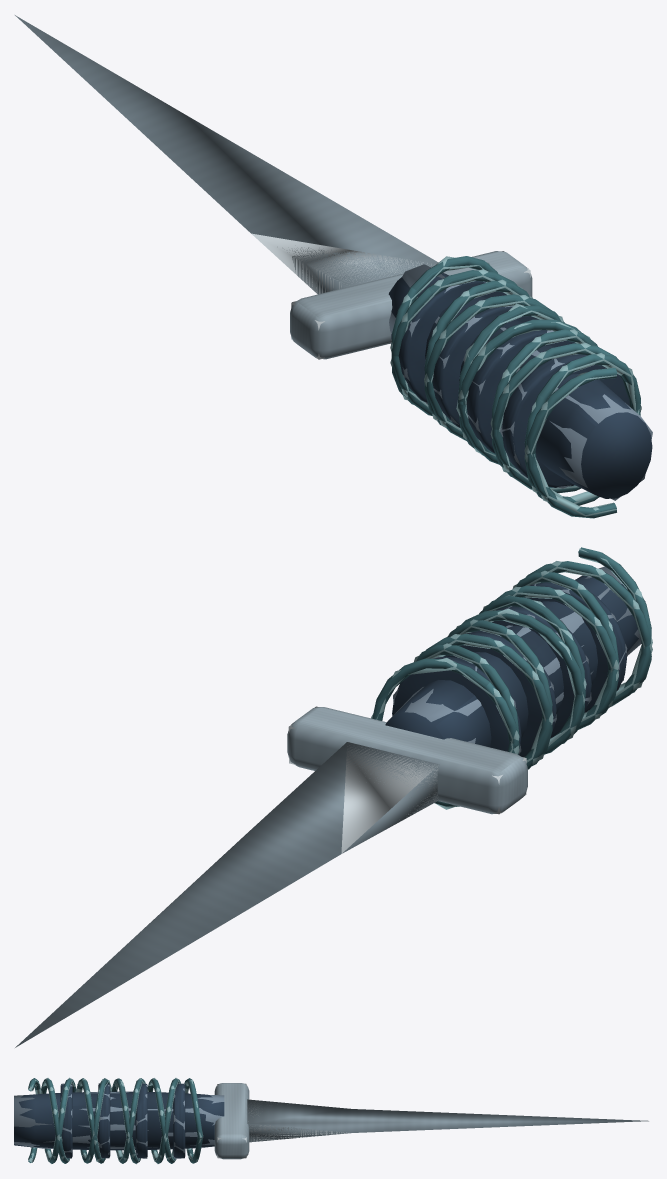
Rendered from anime-knife.glb.
3 renders of one model, top to bottom at view 1: azimuth 30°, elevation 25°; view 2: azimuth 150°, elevation 25°; view 3: azimuth 270°, elevation 25°, orthographic. The views are drawn at different scales.
Visible parts, largest first — view 1: weapon_Machined edges, weapon_Polymer, weapon_Braided knife leather, World hardware; view 2: weapon_Machined edges, weapon_Braided knife leather, weapon_Polymer, World hardware; view 3: weapon_Machined edges, weapon_Polymer, World hardware, weapon_Braided knife leather.
Part boxes in pixels (x1,y1,x2,y2): weapon_Machined edges: (15, 15, 532, 359); weapon_Polymer: (388, 273, 652, 498); weapon_Braided knife leather: (391, 256, 640, 518); World hardware: (251, 233, 652, 516); weapon_Machined edges: (15, 707, 527, 1047); weapon_Braided knife leather: (372, 547, 651, 806); weapon_Polymer: (385, 572, 638, 757); World hardware: (288, 548, 652, 853); weapon_Machined edges: (214, 1083, 648, 1159); weapon_Polymer: (14, 1083, 224, 1158); World hardware: (14, 1077, 346, 1164); weapon_Braided knife leather: (28, 1078, 202, 1163).
Size of the model in its own units: 0.09 by 0.0599 by 0.425.
Materials: 4 (3 with a texture image).
